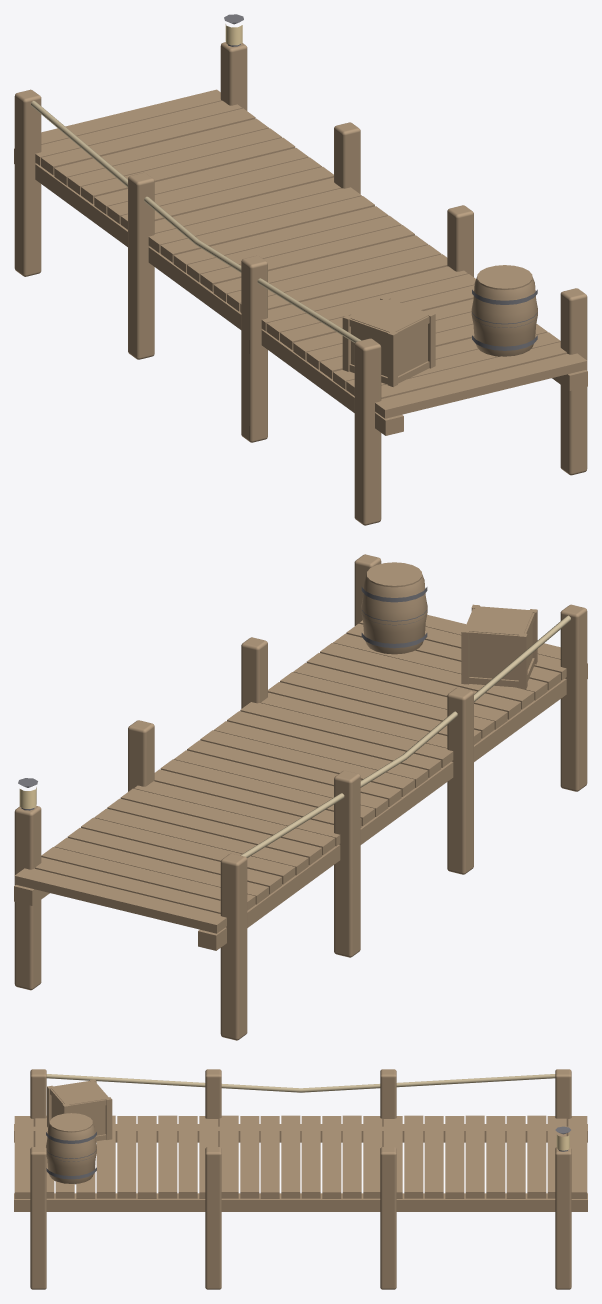
Rendered from dock_pier.glb.
3 views of the same model, one above another, from view 1: azimuth 30°, elevation 25°; view 2: azimuth 150°, elevation 25°; view 3: azimuth 270°, elevation 25° (orthographic). The views are drawn at different scales.
Visible parts, largest first — view 1: Dock; view 2: Dock; view 3: Dock.
Boxes of the visible parts, x1,y1,x2,y2 form: Dock: (14, 14, 587, 525); Dock: (14, 554, 587, 1040); Dock: (14, 1069, 587, 1289).
Size of the model in its own units: 2.44 by 2.11 by 7.
